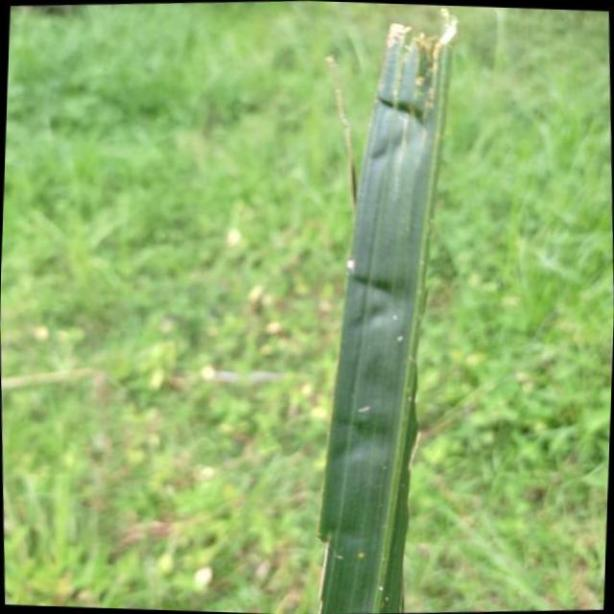Boron: (313, 0, 459, 614)
